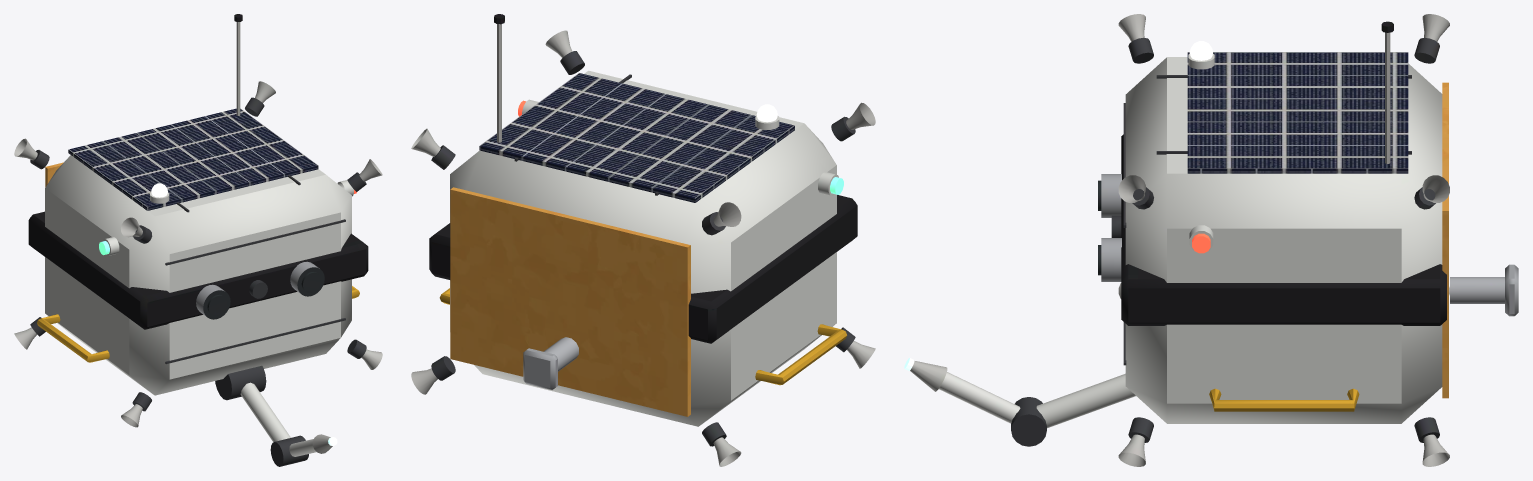
File: drone.glb
3 renders of one model, left to right at view 1: azimuth 30°, elevation 25°; view 2: azimuth 150°, elevation 25°; view 3: azimuth 270°, elevation 25°, orthographic. The views are drawn at different scales.
Visible parts, largest first — view 1: drone.body, arm.shoulder, arm.elbow, thruster.5, thruster.4, thruster.8, thruster.1, thruster.2, thruster.6, thruster.3; view 2: drone.body, thruster.7, thruster.2, thruster.3, thruster.6, thruster.4, thruster.8, thruster.1, light.nav; view 3: drone.body, arm.elbow, arm.shoulder, thruster.2, thruster.5, thruster.4, thruster.7, thruster.6, thruster.8, light.nav.
Boxes of the visible parts, box(x1,y1,x2,y2) form: drone.body: box(28, 14, 368, 395); arm.shoulder: box(215, 365, 290, 442); arm.elbow: box(270, 434, 337, 466); thruster.5: box(347, 339, 382, 369); thruster.4: box(14, 138, 49, 169); thruster.8: box(245, 81, 275, 116); thruster.1: box(121, 392, 151, 427); thruster.2: box(121, 217, 152, 243); thruster.6: box(347, 159, 382, 191); thruster.3: box(14, 317, 45, 349); drone.body: box(429, 14, 857, 426); thruster.7: box(411, 356, 455, 394); thruster.2: box(831, 102, 875, 141); thruster.3: box(702, 422, 741, 466); thruster.6: box(545, 30, 584, 74); thruster.4: box(702, 202, 741, 235); thruster.8: box(411, 128, 455, 169); thruster.1: box(836, 327, 875, 368); light.nav: box(755, 104, 779, 129); drone.body: box(1098, 21, 1518, 423); arm.elbow: box(904, 357, 1046, 446); arm.shoulder: box(1036, 373, 1135, 428); thruster.2: box(1118, 14, 1153, 63); thruster.5: box(1118, 417, 1153, 466); thruster.4: box(1414, 14, 1449, 63); thruster.7: box(1414, 417, 1449, 466); thruster.6: box(1118, 175, 1153, 209); thruster.8: box(1414, 175, 1449, 209); light.nav: box(1188, 41, 1214, 69).
Bounding box in the file's own units: 0.6377 × 0.746 × 0.891.
Materials: 5 (1 with a texture image).
